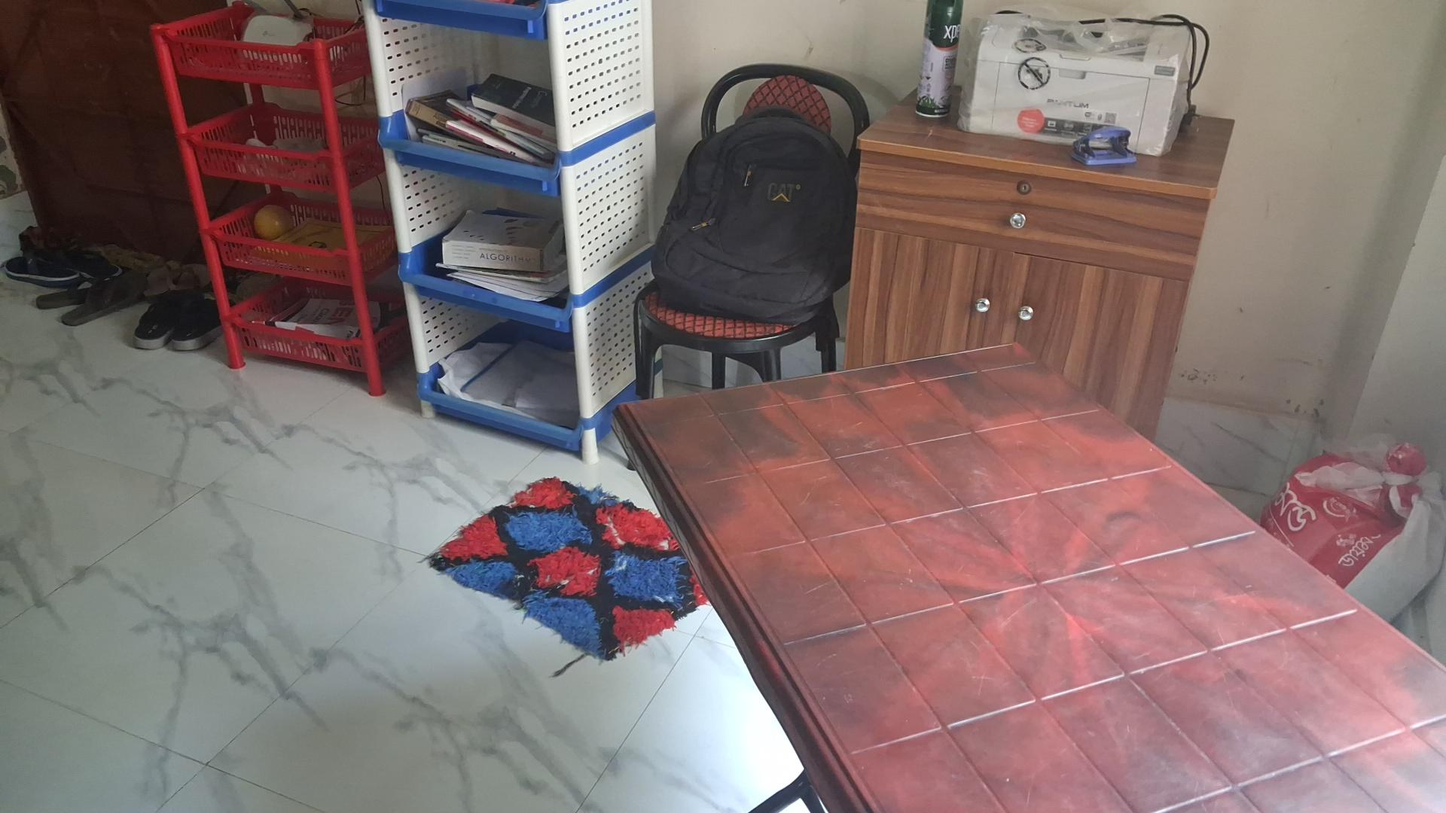Bag: (662, 108, 854, 320), (1254, 455, 1446, 612)
Book: (440, 207, 566, 283)
Bottle: (913, 0, 967, 113)
Chair: (638, 67, 873, 405)
Floor Mat: (431, 470, 710, 659)
Footwear: (131, 295, 232, 348), (36, 280, 154, 322), (6, 249, 120, 283)
Rack: (362, 5, 652, 467), (145, 2, 403, 394)
Table: (619, 332, 1446, 813)
